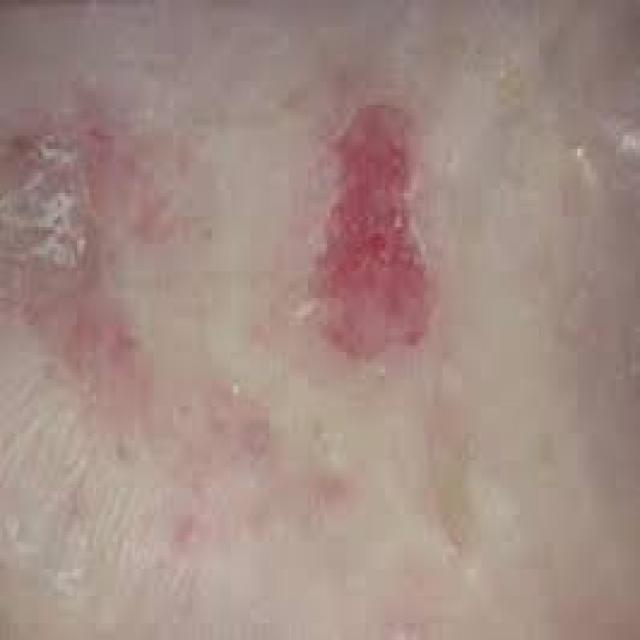stage-2: (308, 95, 435, 366)
